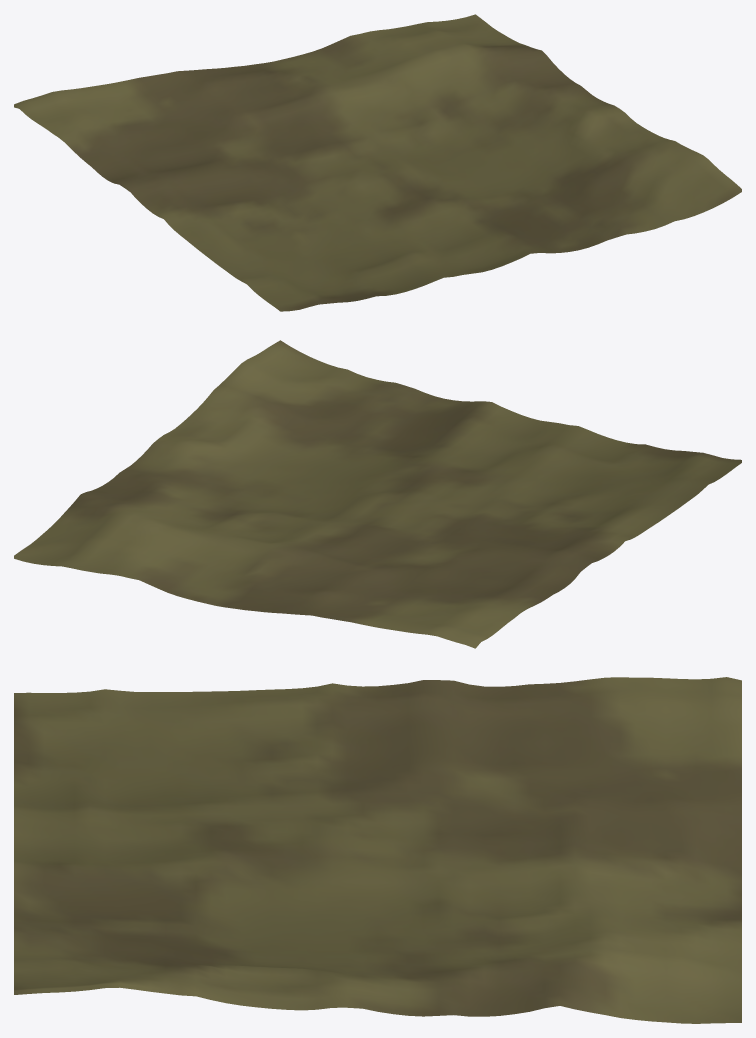
Rendered from land_m_03_11.glb.
The picture shows the model from 3 angles, top to bottom: view 1: azimuth 30°, elevation 25°; view 2: azimuth 150°, elevation 25°; view 3: azimuth 270°, elevation 25°; orthographic projection. The views are drawn at different scales.
Parts seen in each view (by area): view 1: land_m_03_11; view 2: land_m_03_11; view 3: land_m_03_11.
Part boxes in pixels (<box>): land_m_03_11: <box>14,14,741,311</box>; land_m_03_11: <box>14,340,741,648</box>; land_m_03_11: <box>14,677,741,1023</box>.
Bounding box in the file's own units: 960 × 63.95 × 960.
